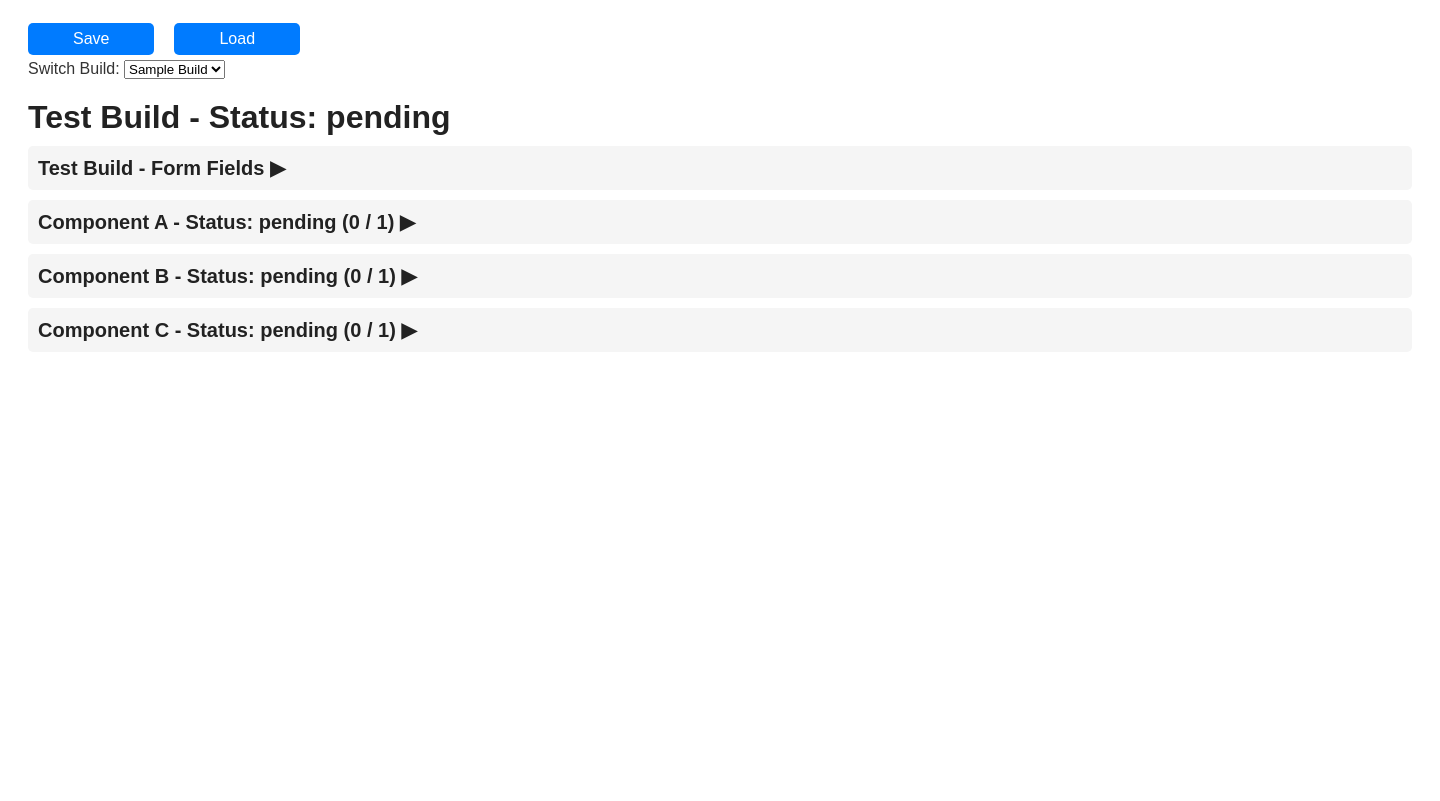
Test: App Component with testBuild › should render the testBuild structure correctly after CLICK interactions
The width and height of the screenshot is (1440, 801).
Expected: the heading "Test Build - Status: pending" is shown, [28,99,450,135]
# Simulate clicking Component A to expand
Click the heading "Component A - Status: pending (0 / 1) ▶" at (720, 222), box [28,200,1412,244]
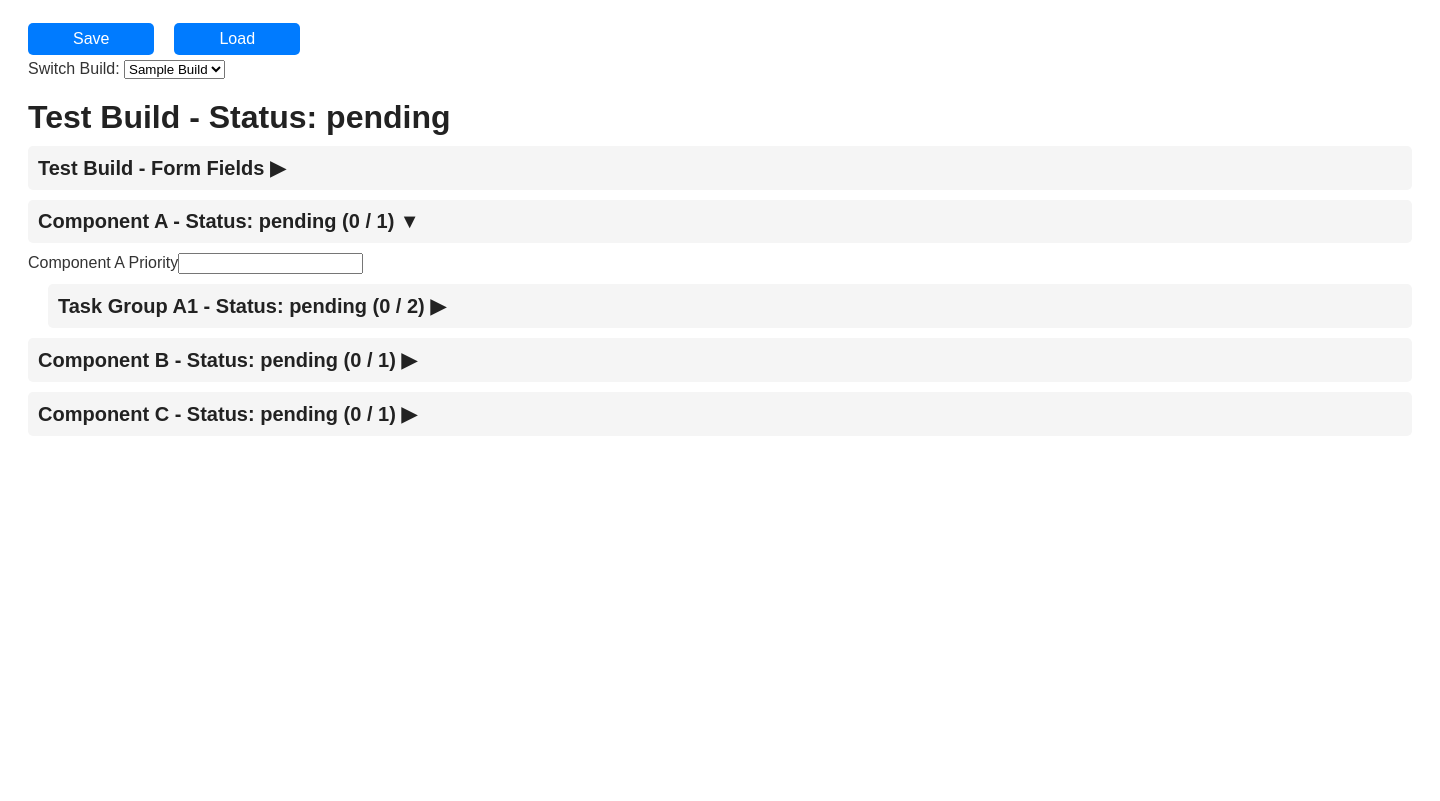
Expected: the heading "Task Group A1 - Status: pending (0 / 2) ▶" is shown
# Simulate clicking Task Group A1 to expand
Click the heading "Task Group A1 - Status: pending (0 / 2) ▶" at (730, 306), box [48,284,1412,328]
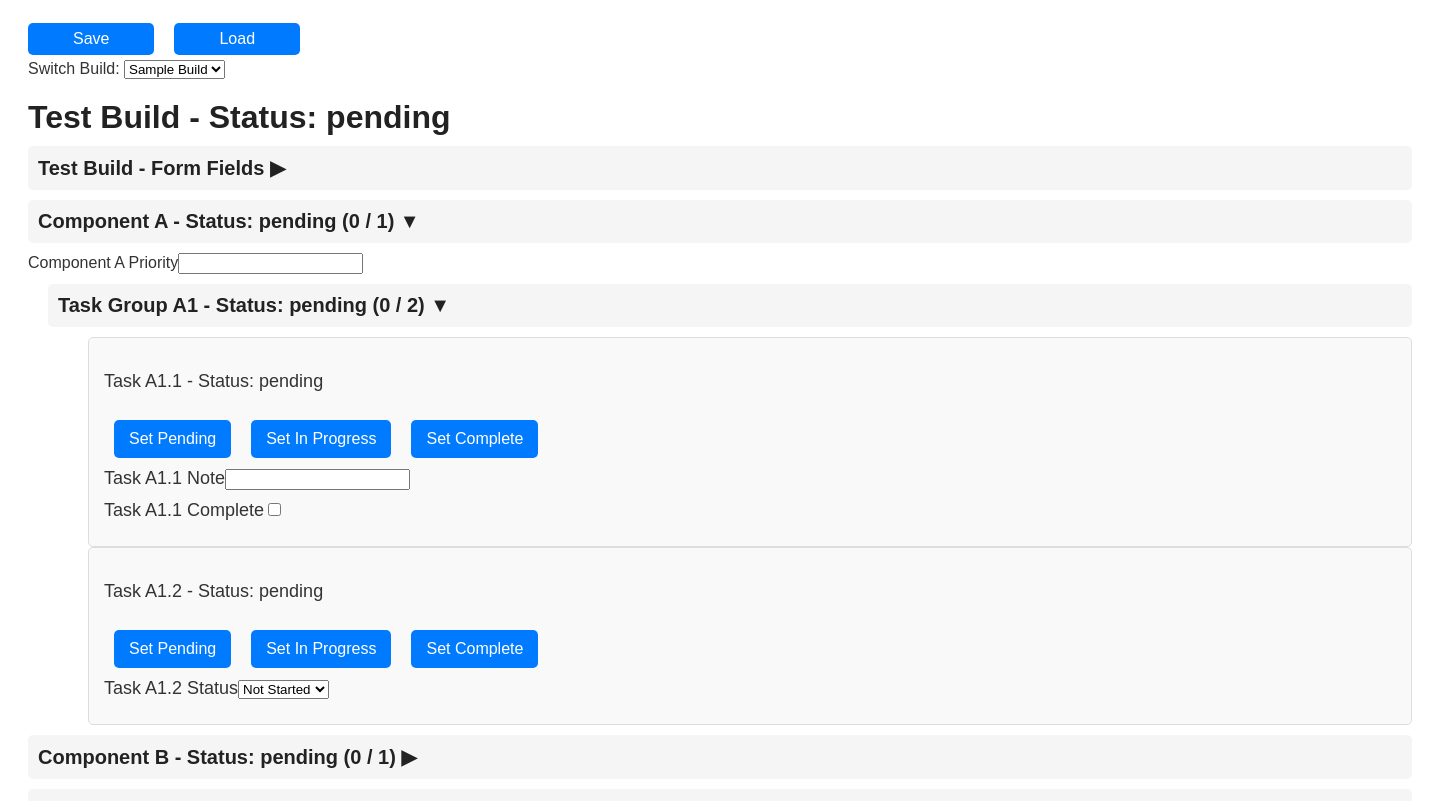
Expected: the text "Task A1.1 - Status: pending" is shown, [104,371,323,391]
Expected: the text "Task A1.2 - Status: pending" is shown, [104,581,323,601]
Expected: the field labelled "Task A1.1 Note" is shown, [225,469,410,490]
